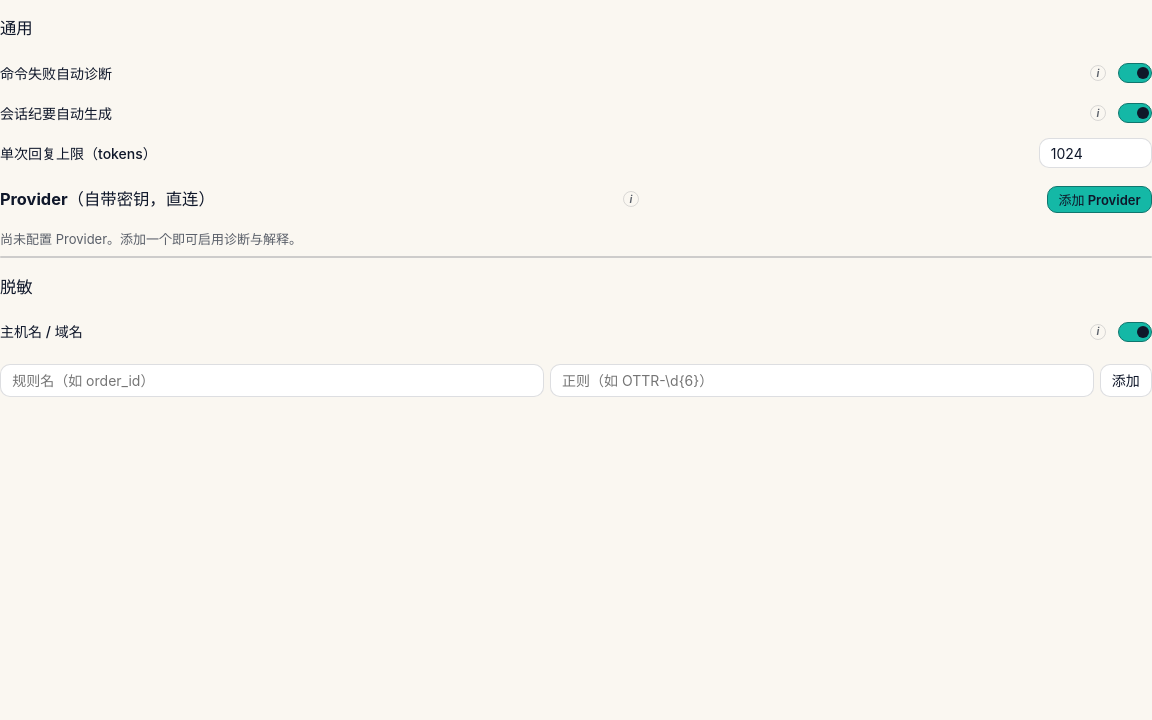
Test: 通用 › Provider 表单弹框化（2026-10-30 用户需求）：点击添加/编辑时弹框叠在设置之上，点取消关闭
// 点击「添加 Provider」→ 弹框 portal 到 body
Click the button with test id "ai-add-provider" at (1100, 199), box 1047,186 -> 1151,213
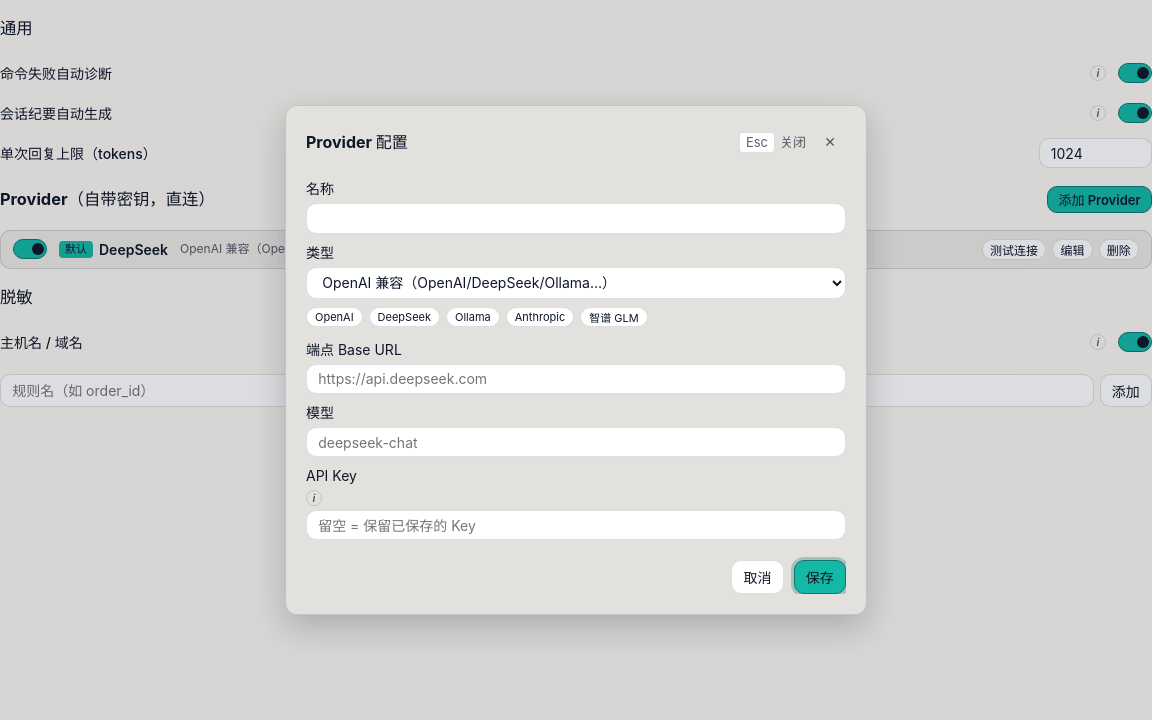
Expected: the dialog with test id "ai-provider-dialog" is shown
Expected: the form with test id "ai-provider-form" is shown, 306,178 -> 846,594
// 点击取消 → 弹框收起
Click the button with test id "ai-form-cancel" at (758, 577), box 731,560 -> 784,594
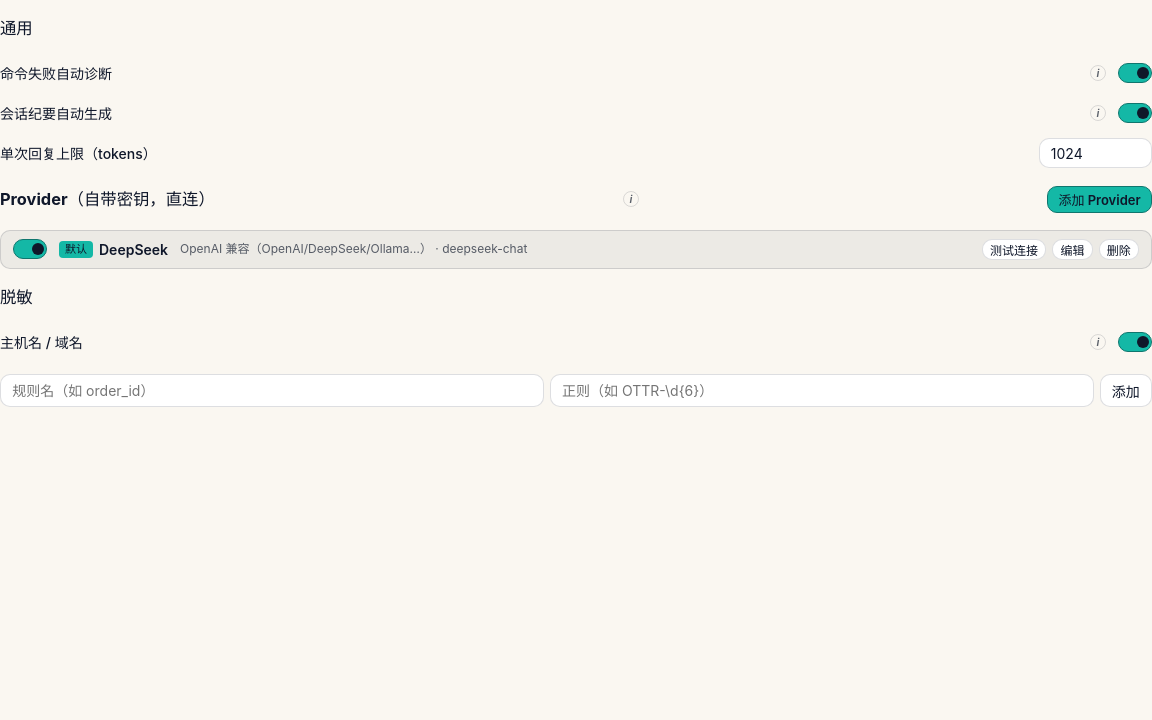
Expected: the dialog with test id "ai-provider-dialog" is gone
